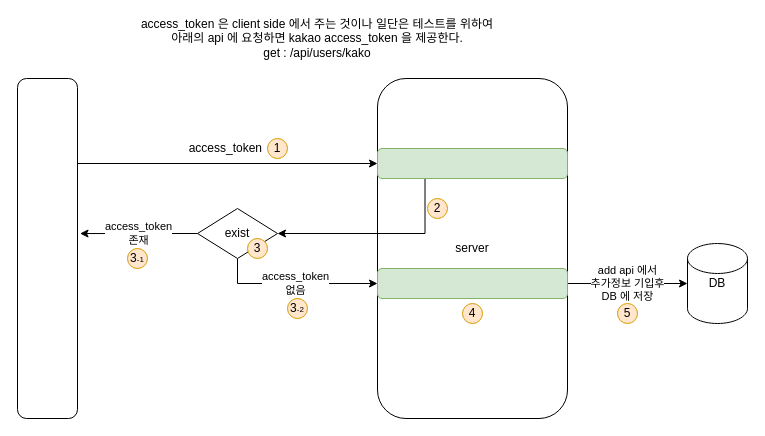
This 765x436 diagram has some shape labels left out. The centre of each missing label's shape, as x and y in pixels:
"client" belongs at point 47,248.
"post : /api/users/add" belongs at point 472,283.
"post : /api/users/exist" belongs at point 472,163.
